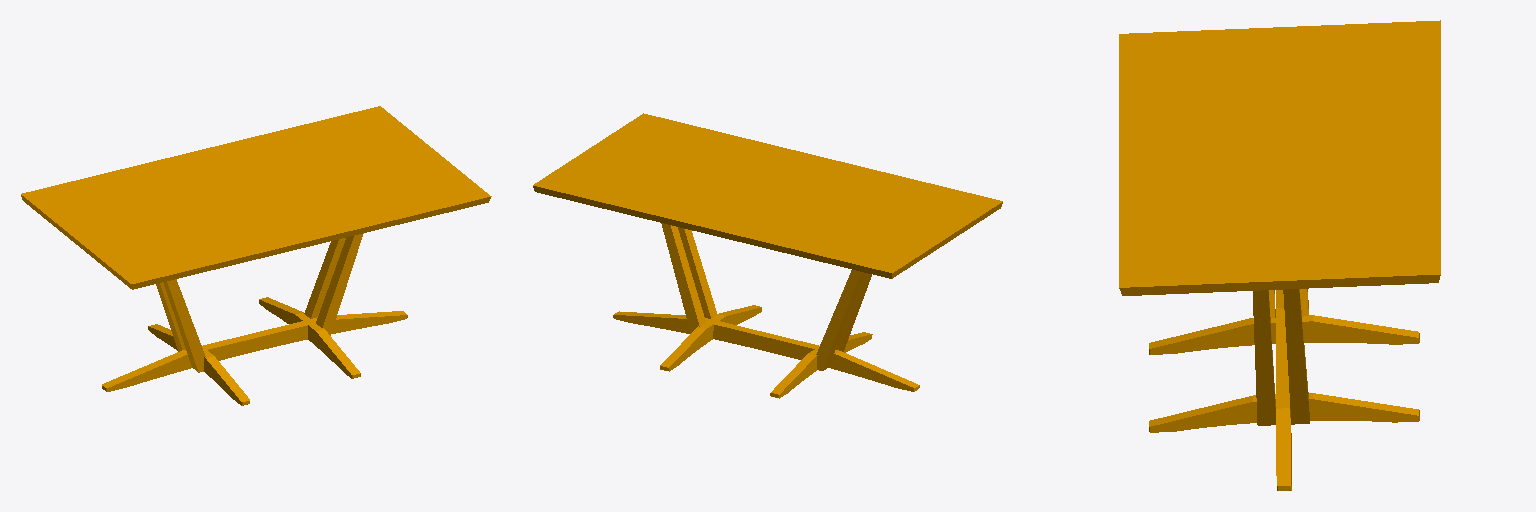
The robot description file, URDF, robot "dining_table_02":
<?xml version="1.0" ?>
<robot name="dining_table_02">
  <link name="baseLink">
    <contact>
      <lateral_friction value="1.0"/>
      <inertia_scaling value="3.0"/>
    </contact>
    <inertial>
      <origin rpy="0 0 0" xyz="0.000 -0.001 -0.223"/>
       <mass value=".1"/>
       <inertia ixx="1" ixy="0.0" ixz="0.0" iyy="1" iyz="0.0" izz="1"/>
    </inertial>
    <visual>
      <origin rpy="0 0 0" xyz="0 0 0"/>
      <geometry>
        <mesh filename="visual.obj" scale="1.000 1.000 1.000"/>
      </geometry>
      <material name="texture_material">
            <texture filename="texture.png"/>
      </material>
    </visual>
    <collision>
      <origin rpy="0 0 0" xyz="0 0 0"/>
      <geometry>
        <mesh filename="visual.obj" scale="1.000 1.000 1.000"/>
      </geometry>
    </collision>
  </link>
</robot>
        

--- Render facts (derived) ---
The picture shows the robot from 3 angles, left to right: view 1: azimuth 30°, elevation 25°; view 2: azimuth 150°, elevation 25°; view 3: azimuth 270°, elevation 25°; orthographic projection.
Model dining_table_02 with 1 links and 0 joints (none), rooted at baseLink, posed every joint at zero.
Visible links, largest first — view 1: baseLink; view 2: baseLink; view 3: baseLink.
Link boxes in pixels (x1=…): baseLink: x1=21, y1=106, x2=491, y2=405; baseLink: x1=533, y1=113, x2=1002, y2=398; baseLink: x1=1119, y1=20, x2=1440, y2=490.
Size in the robot's own frame: 1 by 0.5348 by 0.4464 metres.
Meshes: 1 distinct files referenced, 1 mesh visuals loaded (1 OBJ).
